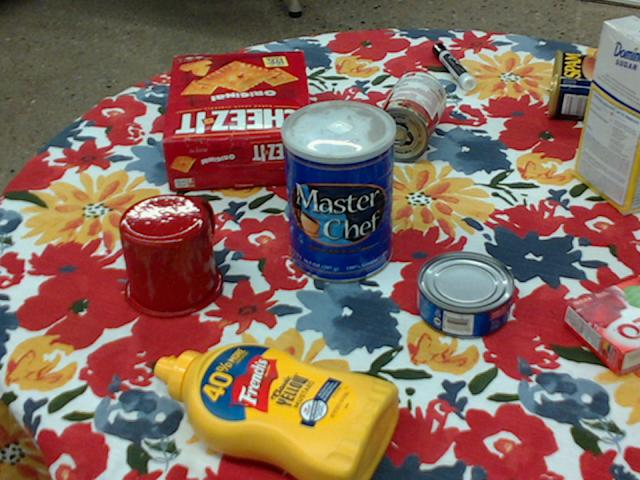cracker_box: (162, 50, 315, 188)
gelatin_box: (564, 276, 639, 374)
large_marker: (433, 42, 475, 89)
master_chef_can: (279, 99, 394, 283)
mug: (117, 193, 223, 318)
mustard_bottle: (155, 342, 400, 479)
potted_meat_can: (547, 47, 625, 120)
sugar_box: (572, 16, 639, 215)
tomato_soup_can: (370, 69, 445, 161)
tuna_fish_can: (417, 251, 515, 339)
